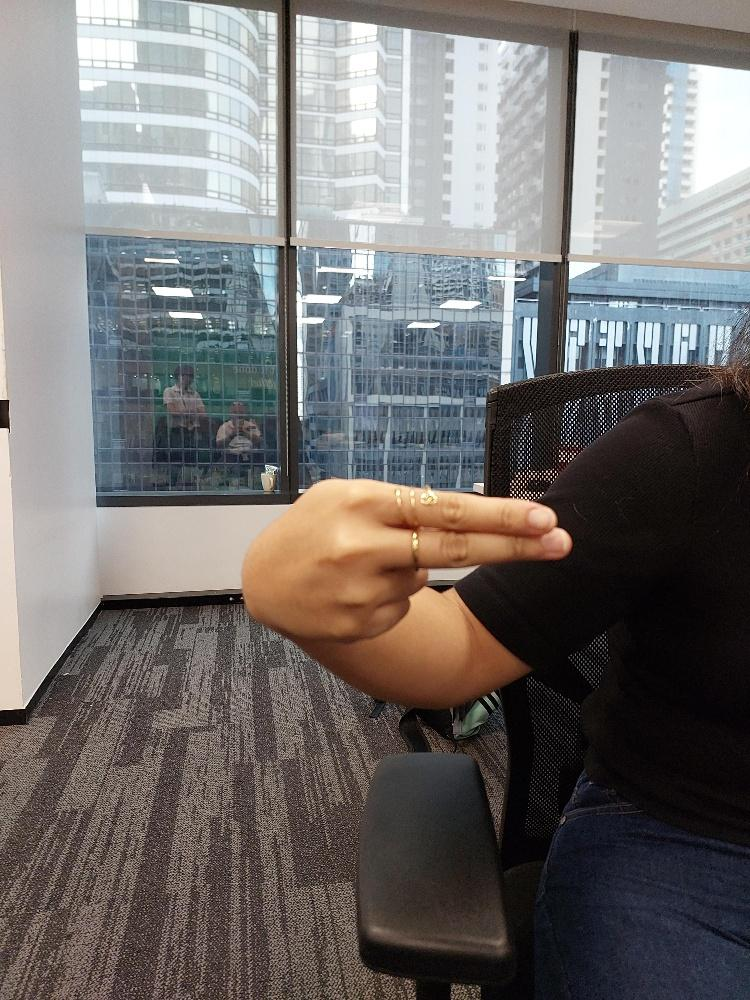h: (236, 473, 573, 646)
